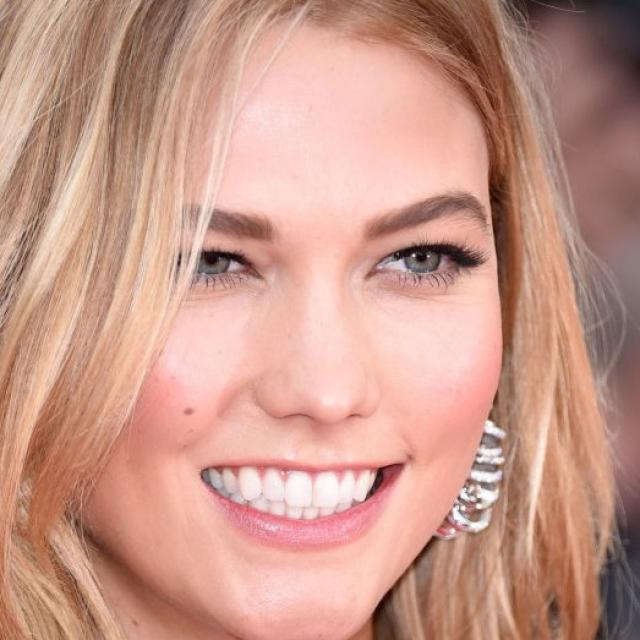Normal: (51, 9, 512, 639)
